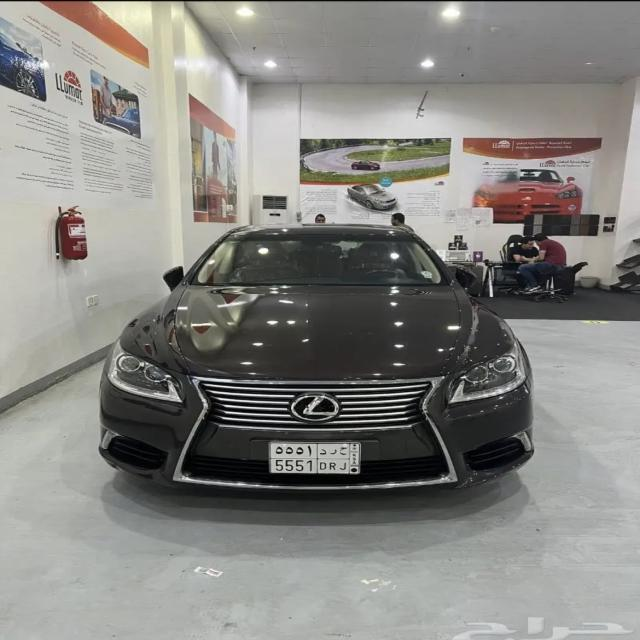license_plate: (268, 442, 360, 476)
